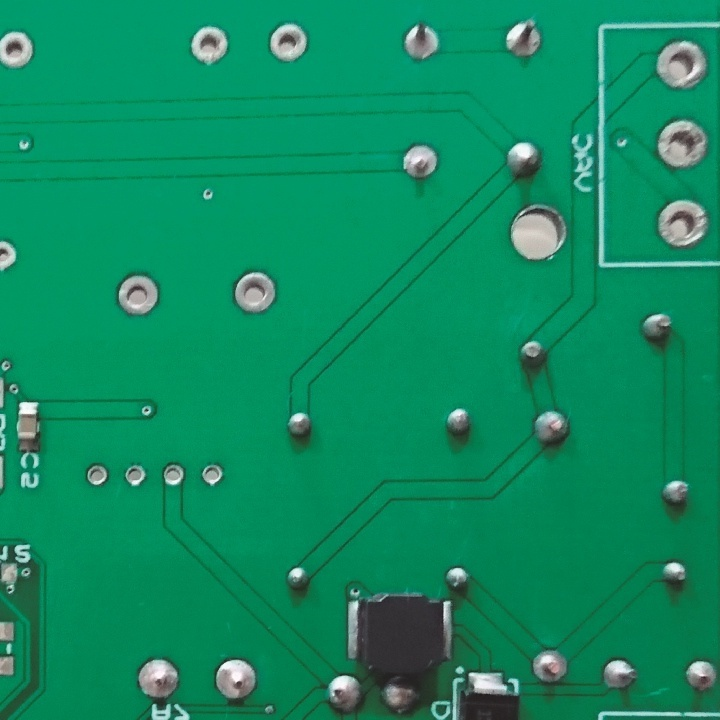F: (653, 35, 713, 95), (653, 117, 712, 172), (653, 198, 711, 252), (108, 269, 163, 320), (224, 269, 279, 318), (184, 22, 236, 68), (213, 656, 261, 703), (135, 655, 180, 703), (267, 20, 312, 66), (527, 646, 572, 689), (1, 25, 39, 75), (402, 18, 443, 63), (399, 141, 443, 182), (503, 17, 545, 57), (200, 460, 226, 492), (1, 240, 24, 276), (84, 460, 108, 493), (161, 460, 186, 491), (122, 462, 146, 489)
